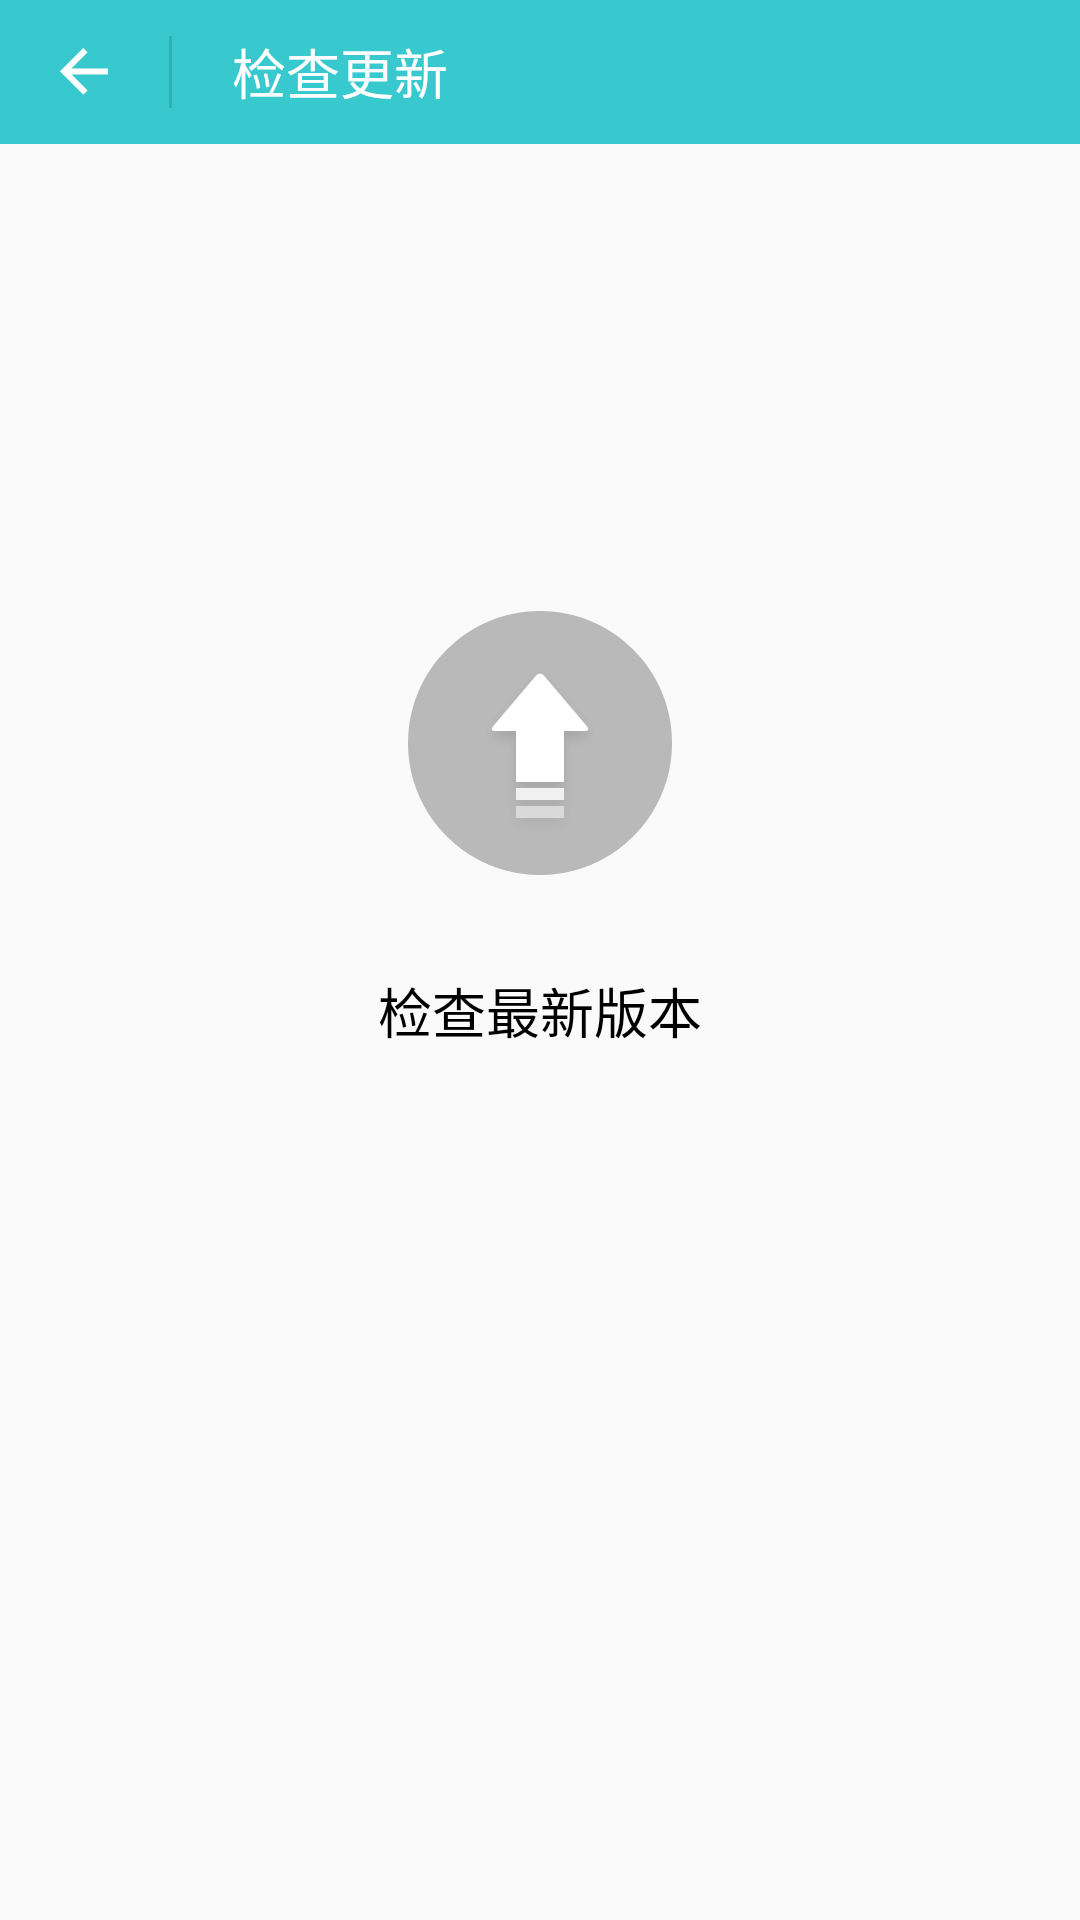

Icons on this 1080px×1920px Android screen, each with the point to tap as (x=x, y=y):
exit: (x=84, y=71)
update: (x=540, y=743)
